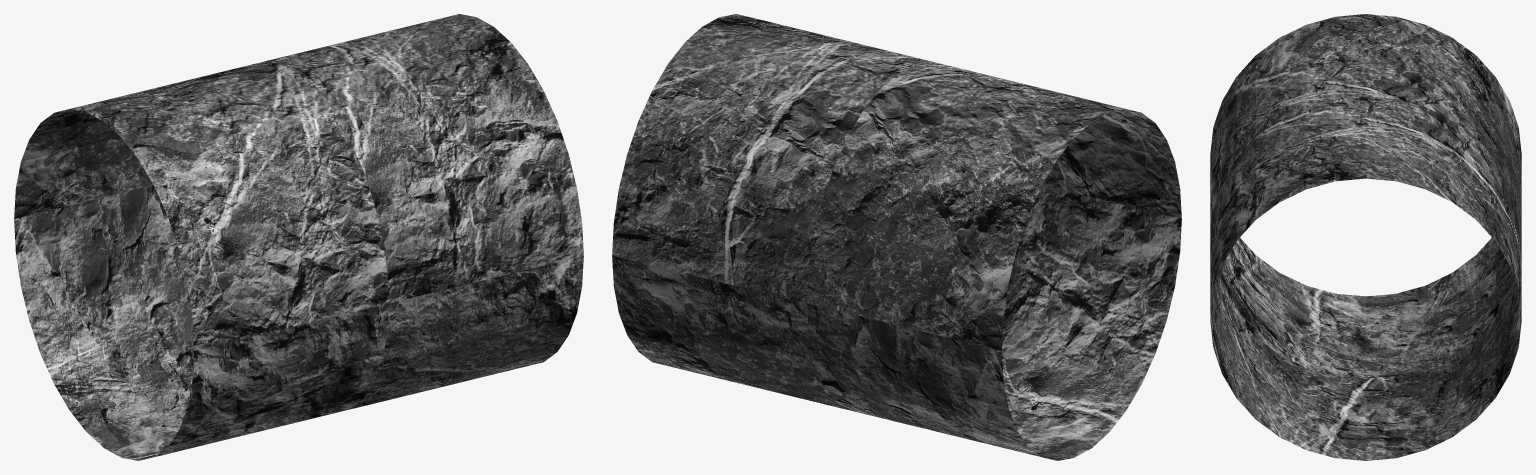
File: hallway.obj
3 views of the same model, side by side, from view 1: azimuth 30°, elevation 25°; view 2: azimuth 150°, elevation 25°; view 3: azimuth 270°, elevation 25° (orthographic). The views are drawn at different scales.
Parts seen in each view (by area): view 1: Cylinder; view 2: Cylinder; view 3: Cylinder.
Part boxes in pixels (x1,y1,x2,y2): Cylinder: (14, 14, 583, 460); Cylinder: (612, 14, 1181, 460); Cylinder: (1210, 14, 1521, 460).
Size of the model in its own units: 2.5 by 2 by 2.
